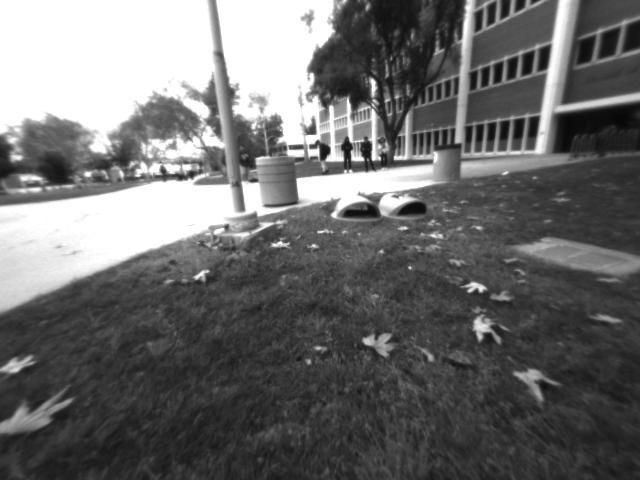trashcan: (251, 147, 308, 211), (429, 136, 466, 186)
